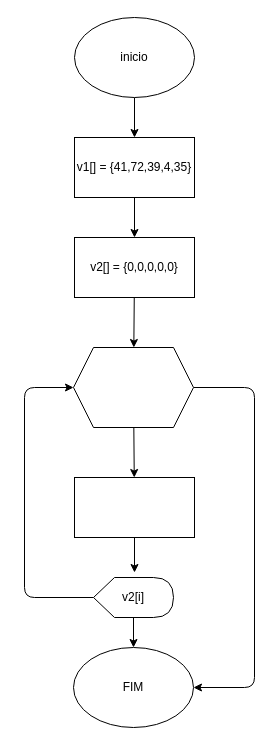
This 280x745 diagram has some shape labels left out. The shapes that lost their labels are listed below. From the top down, each one's box as (x1, y1, x2, y2) in pixels, then its label:
(72, 346, 194, 428): i,5,0,-1
(74, 476, 194, 538): v1[i] = v2[i]
